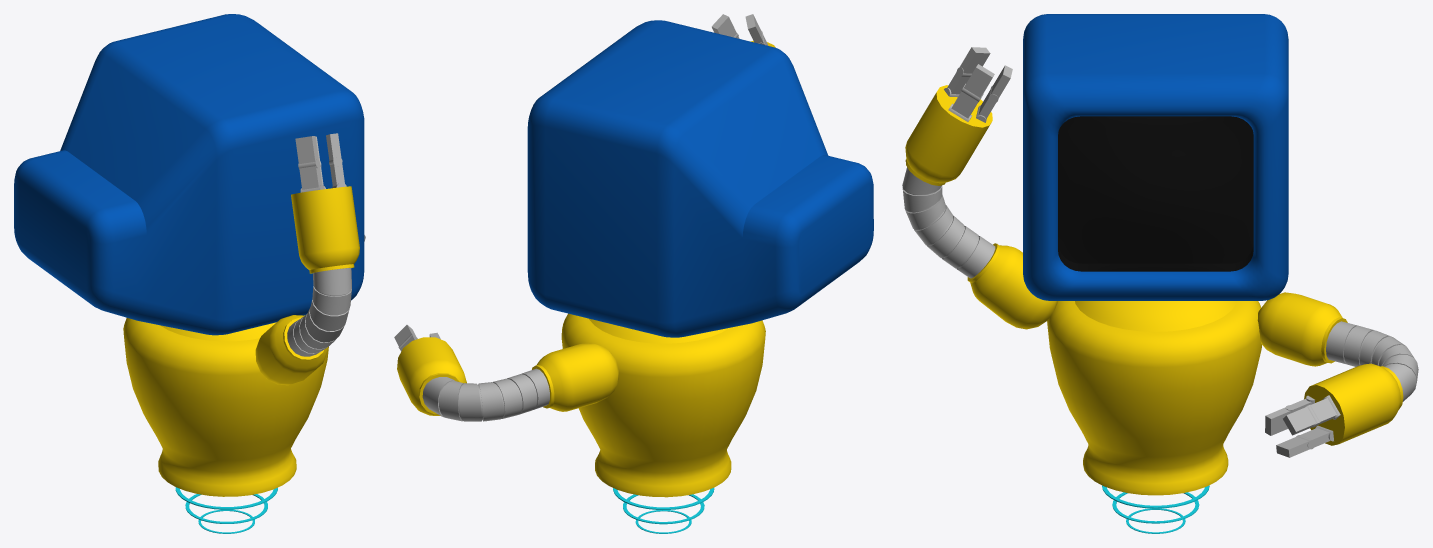
Rendered from NPCs.fbx.
3 views of the same model, side by side, from view 1: azimuth 30°, elevation 25°; view 2: azimuth 150°, elevation 25°; view 3: azimuth 270°, elevation 25° (orthographic). The views are drawn at different scales.
Parts seen in each view (by area): view 1: NPC; view 2: NPC; view 3: NPC.
Boxes of the visible parts, x1,y1,x2,y2 form: NPC: [14, 14, 365, 533]; NPC: [394, 14, 873, 533]; NPC: [902, 14, 1418, 533].
Bounding box in the file's own units: 136 × 121 × 139.
